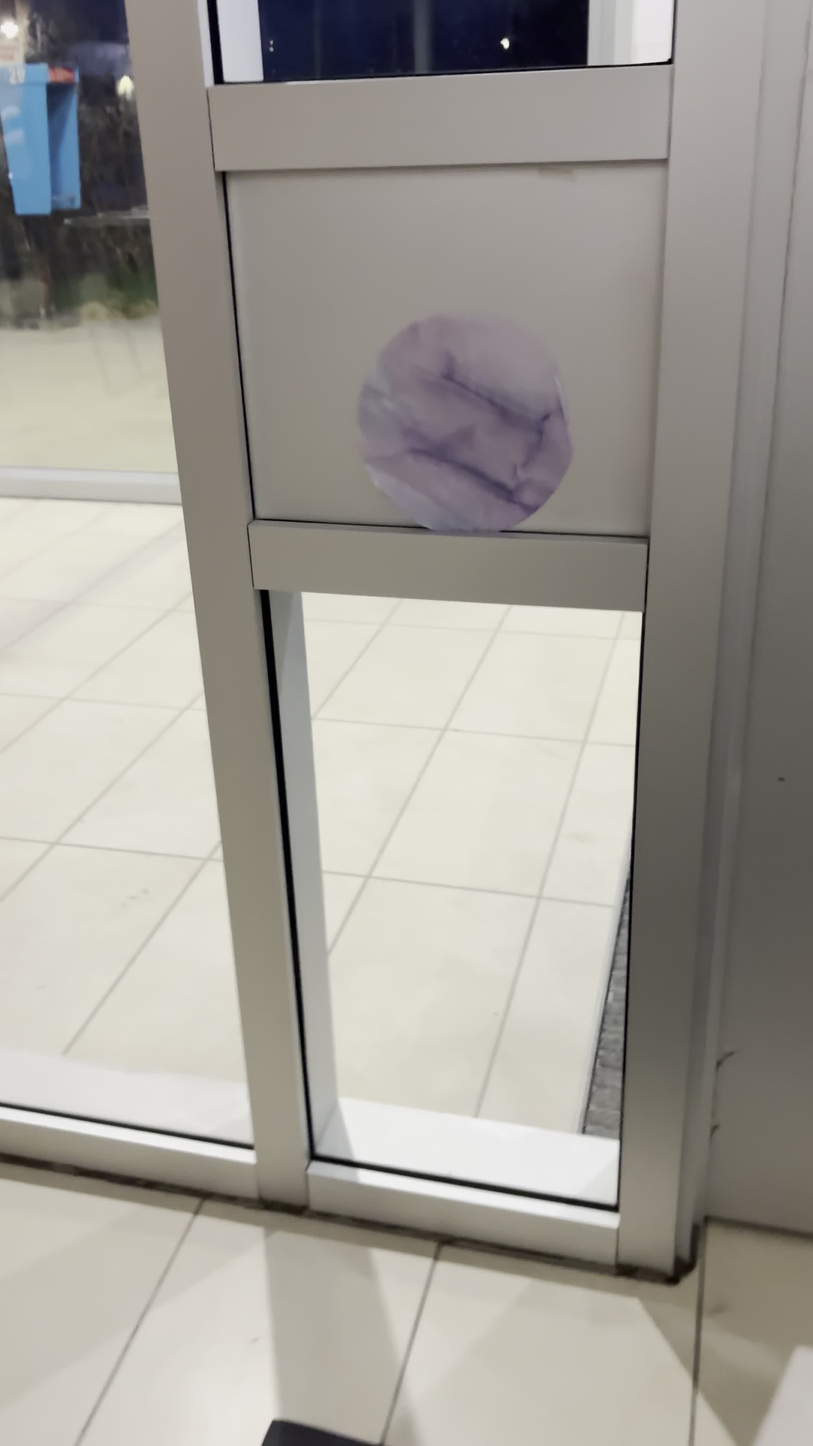Target: (348, 307, 575, 556)
